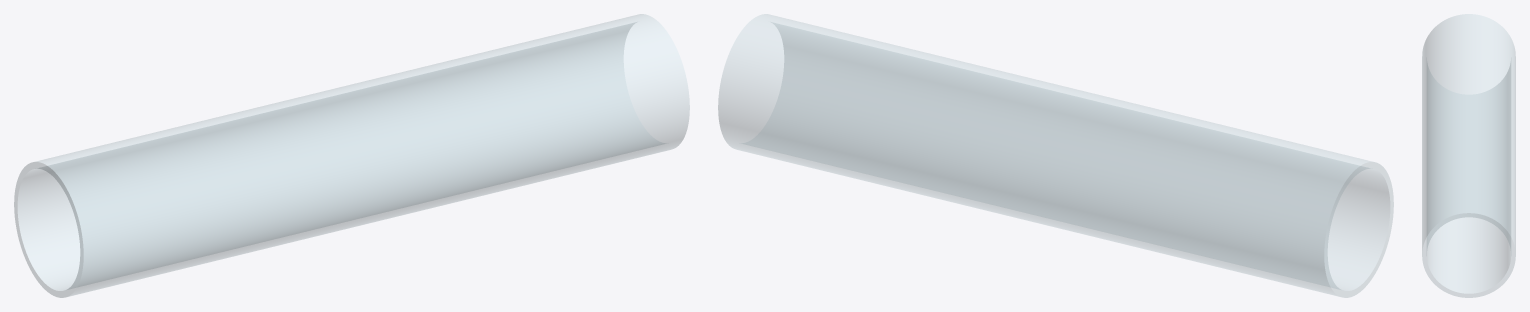
The model's file is tubo_p2.glb.
The picture shows the model from 3 angles, left to right: view 1: azimuth 30°, elevation 25°; view 2: azimuth 150°, elevation 25°; view 3: azimuth 270°, elevation 25°; orthographic projection. The views are drawn at different scales.
Visible parts, largest first — view 1: tubo_p2; view 2: tubo_p2; view 3: tubo_p2.
Part boxes in pixels (x1=…): tubo_p2: x1=14, y1=14, x2=689, y2=297; tubo_p2: x1=718, y1=14, x2=1393, y2=297; tubo_p2: x1=1422, y1=14, x2=1515, y2=297.
Size of the model in its own units: 201 by 39.98 by 39.99.
